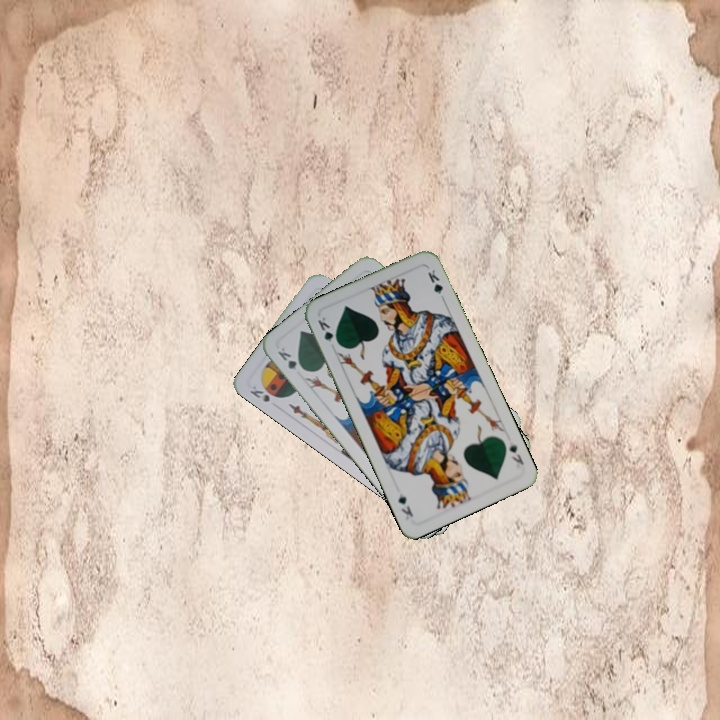GK: (273, 343, 308, 375), (313, 313, 342, 348), (505, 438, 526, 467)
SK: (246, 381, 272, 405)
